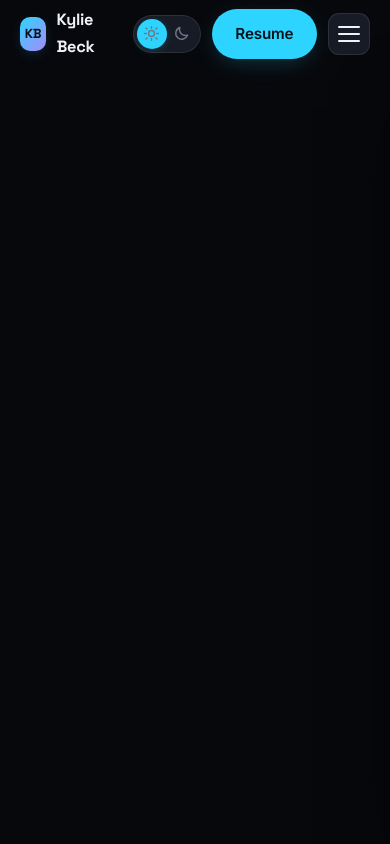
Test: Navbar › closes the drawer when a nav link is followed
Click the button named "Open menu".
click(349, 34)  # box [328,13,370,55]
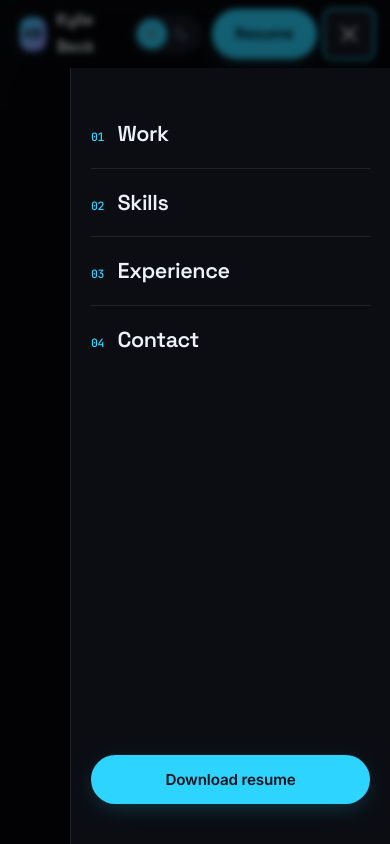
# The drawer duplicates each link, so target the one inside it.
Click the link to "#projects".
click(130, 134)  # box [91,120,169,147]
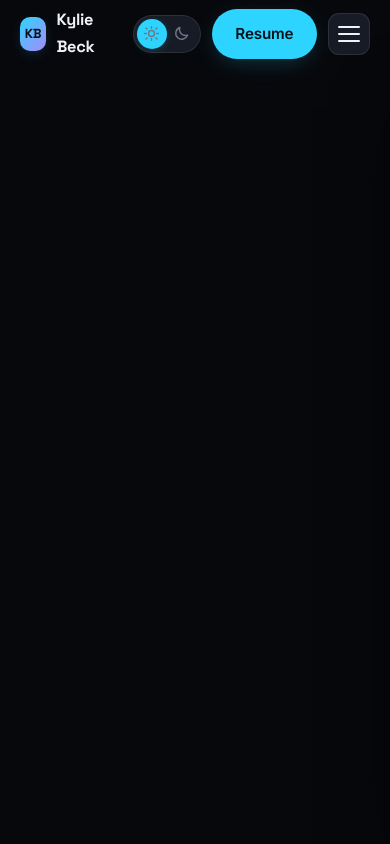
Result: the button named "Open menu" is shown at [328,13,370,55]
